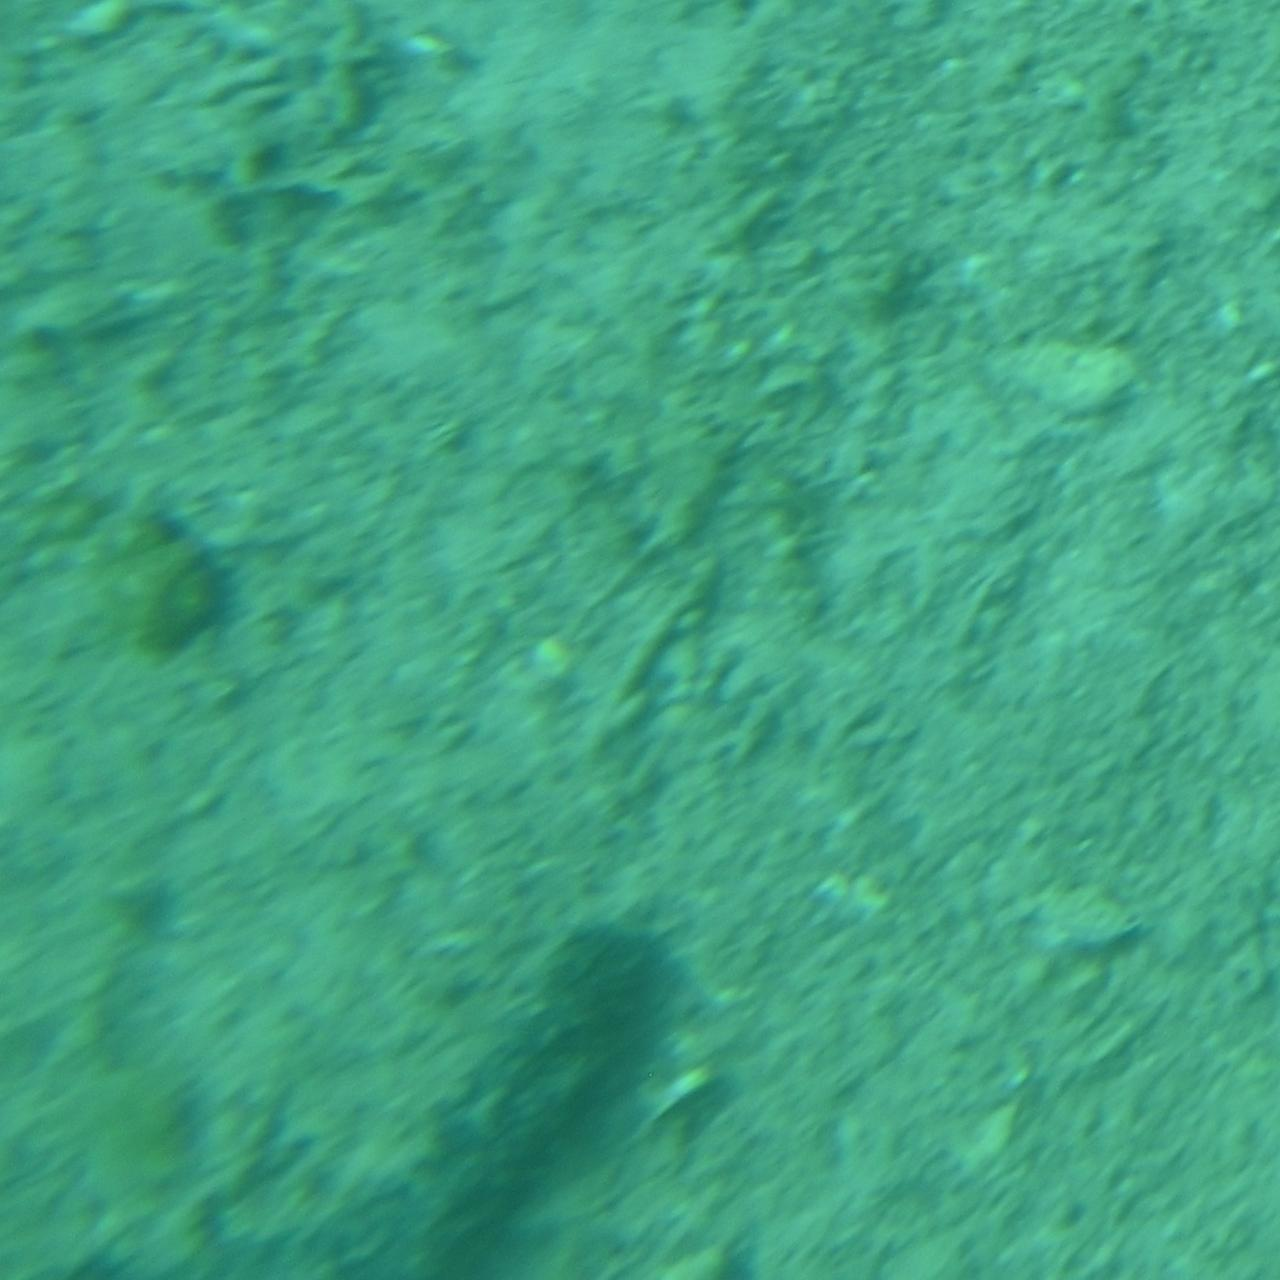Holothuria tubulosa: (63, 915, 673, 1279)
